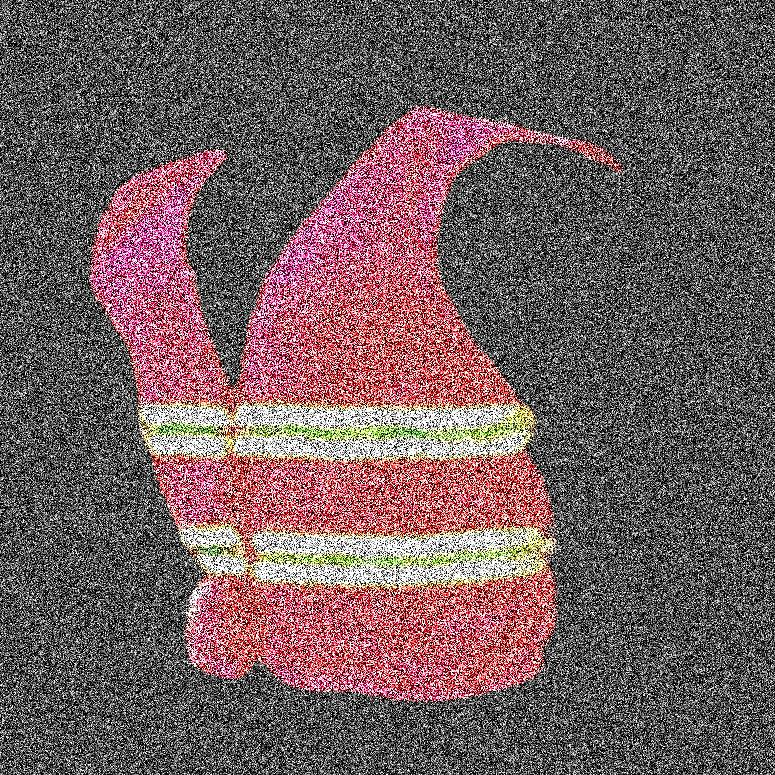Colete: (276, 0, 421, 774)
